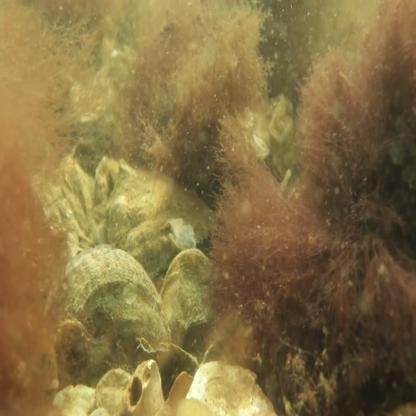Oyster-Closed: (46, 249, 171, 392), (107, 157, 216, 275), (174, 361, 279, 416), (163, 254, 216, 349), (68, 158, 93, 216), (55, 388, 96, 416), (96, 371, 130, 394)
Oyster-Open: (156, 344, 197, 413)
